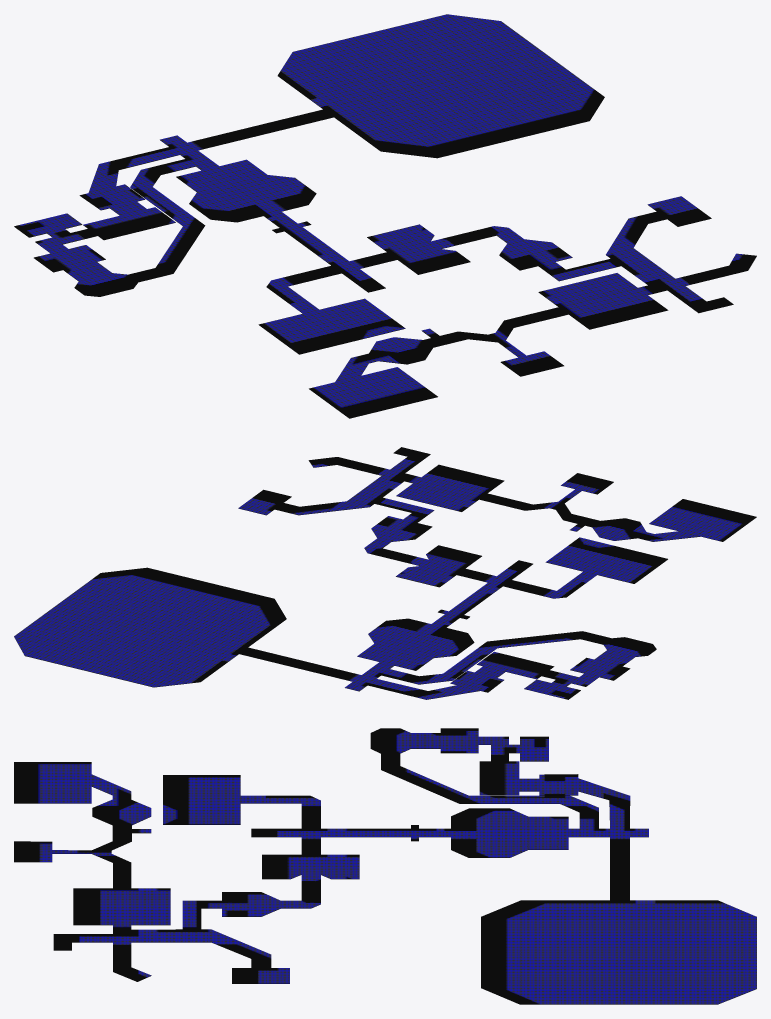
The model's file is Updated_Floor.fbx.
The picture shows the model from 3 angles, top to bottom: view 1: azimuth 30°, elevation 25°; view 2: azimuth 150°, elevation 25°; view 3: azimuth 270°, elevation 25°; orthographic projection. The views are drawn at different scales.
Parts seen in each view (by area): view 1: Floor; view 2: Floor; view 3: Floor.
Boxes of the visible parts, <box> form: Floor: <box>14,14,756,418</box>; Floor: <box>14,447,756,699</box>; Floor: <box>14,728,756,1004</box>.
Bounding box in the file's own units: 0.8529 × 0.000788 × 0.9705.
